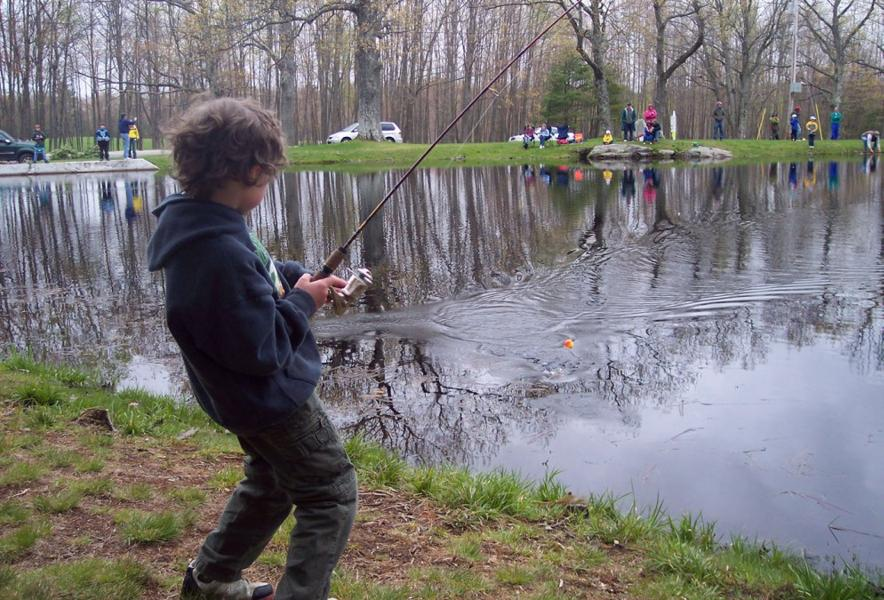person: (150, 96, 360, 600)
